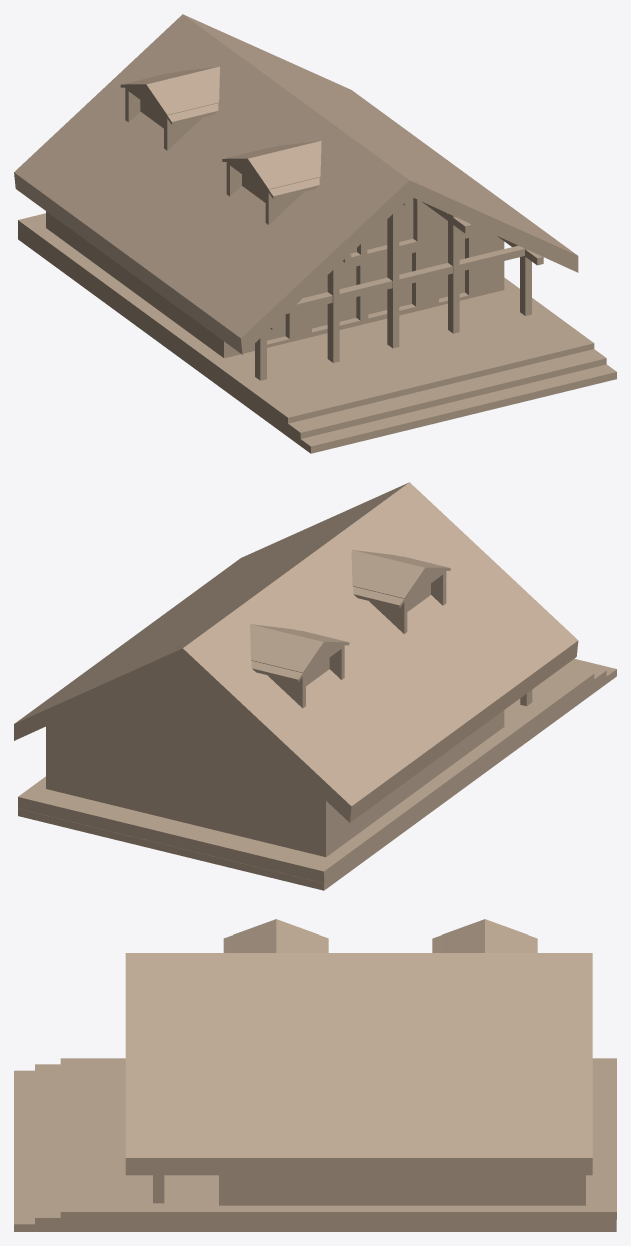
The picture shows the model from 3 angles, top to bottom: view 1: azimuth 30°, elevation 25°; view 2: azimuth 150°, elevation 25°; view 3: azimuth 270°, elevation 25°; orthographic projection. The views are drawn at different scales.
Visible parts, largest first — view 1: polySurface123; view 2: polySurface123; view 3: polySurface123.
Part boxes in pixels (x1,y1,x2,y2): polySurface123: (14,14,616,453); polySurface123: (14,482,616,890); polySurface123: (14,919,616,1231).
Size of the model in its own units: 19.76 by 10.99 by 29.7.
